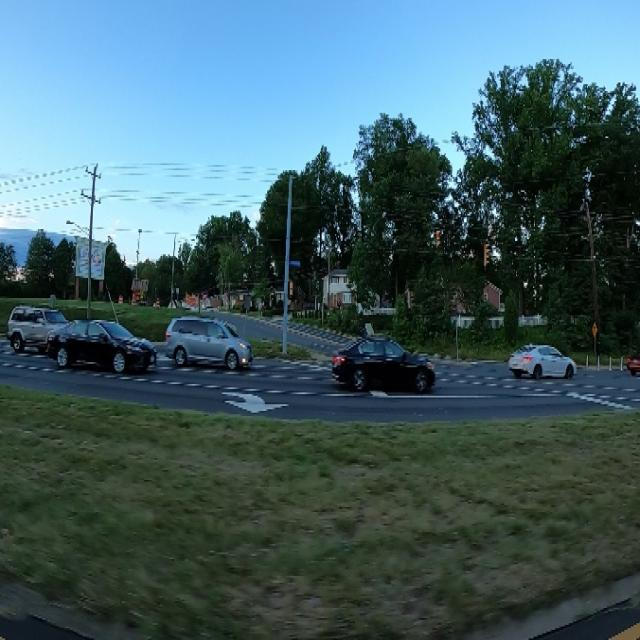cars: (328, 330, 439, 416), (48, 314, 156, 392), (163, 293, 257, 379), (504, 326, 577, 394), (2, 302, 68, 369), (624, 329, 640, 386)
